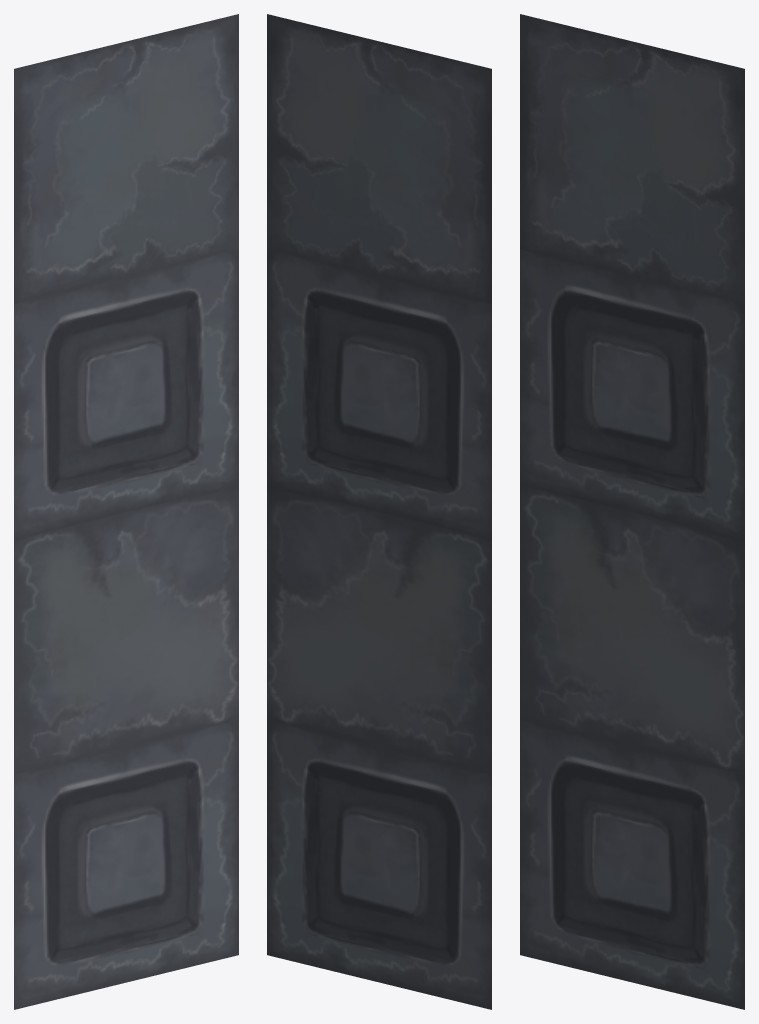
File: Castle Sig Sag 1x4 Flat.fbx
The picture shows the model from 3 angles, left to right: view 1: azimuth 30°, elevation 25°; view 2: azimuth 150°, elevation 25°; view 3: azimuth 330°, elevation 25°; orthographic projection.
Parts seen in each view (by area): view 1: Castle Sig Sag 1x4 Flat; view 2: Castle Sig Sag 1x4 Flat; view 3: Castle Sig Sag 1x4 Flat.
Part boxes in pixels (bbox=[...]): Castle Sig Sag 1x4 Flat: bbox=[14, 14, 238, 1009]; Castle Sig Sag 1x4 Flat: bbox=[267, 14, 491, 1009]; Castle Sig Sag 1x4 Flat: bbox=[520, 14, 744, 1009].
Bounding box in the file's own units: 0.75 × 3 × 3.78e-07.
